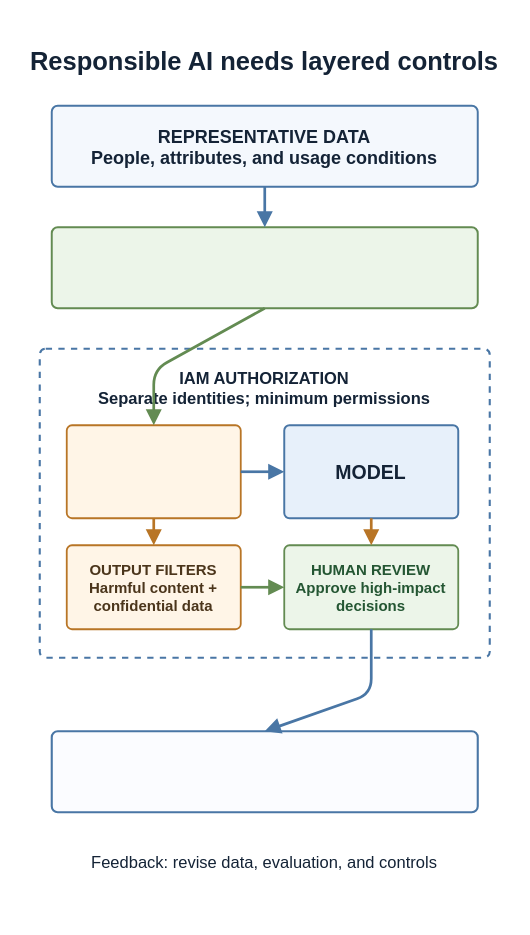
This 530x935 diagram has some shape labels left out. The shapes that lost their labels are listed below. From the top down, each one's centre as x and y in pixels, then its label:
the point at 264,267: SUBGROUP EVALUATION Compare performance and explain impact
the point at 153,471: INPUT FILTERS Policy + sensitive information
the point at 264,771: MONITORING + INCIDENT RESPONSE Record signals, investigate, adjust controls
